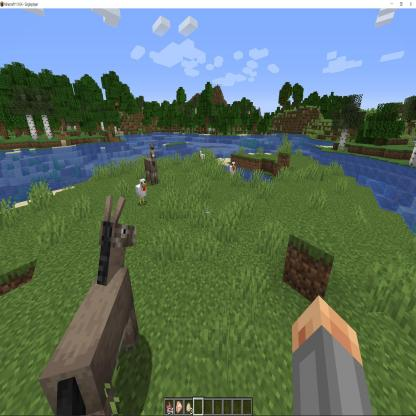minecraft-pigs: (203, 196, 235, 252)
